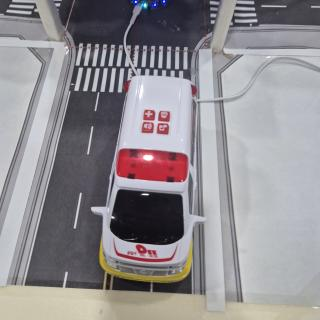Ambulance: (91, 75, 206, 283)
